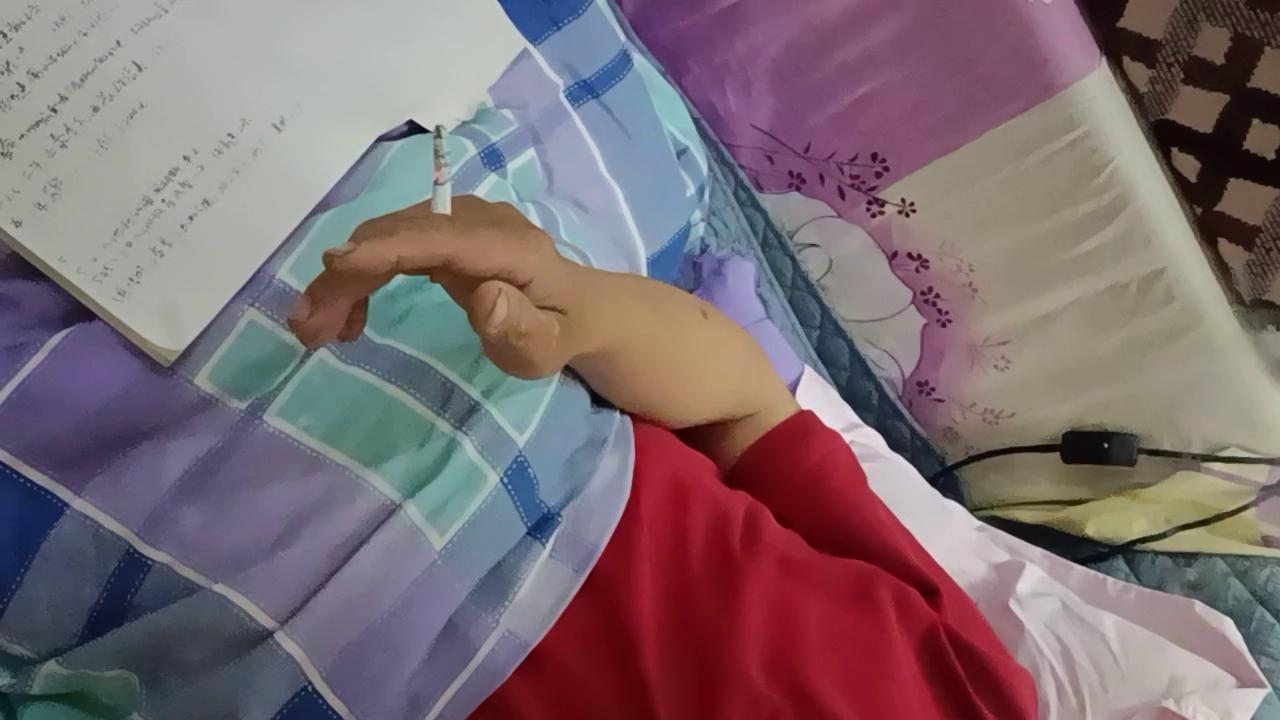smoke: (429, 123, 452, 284)
